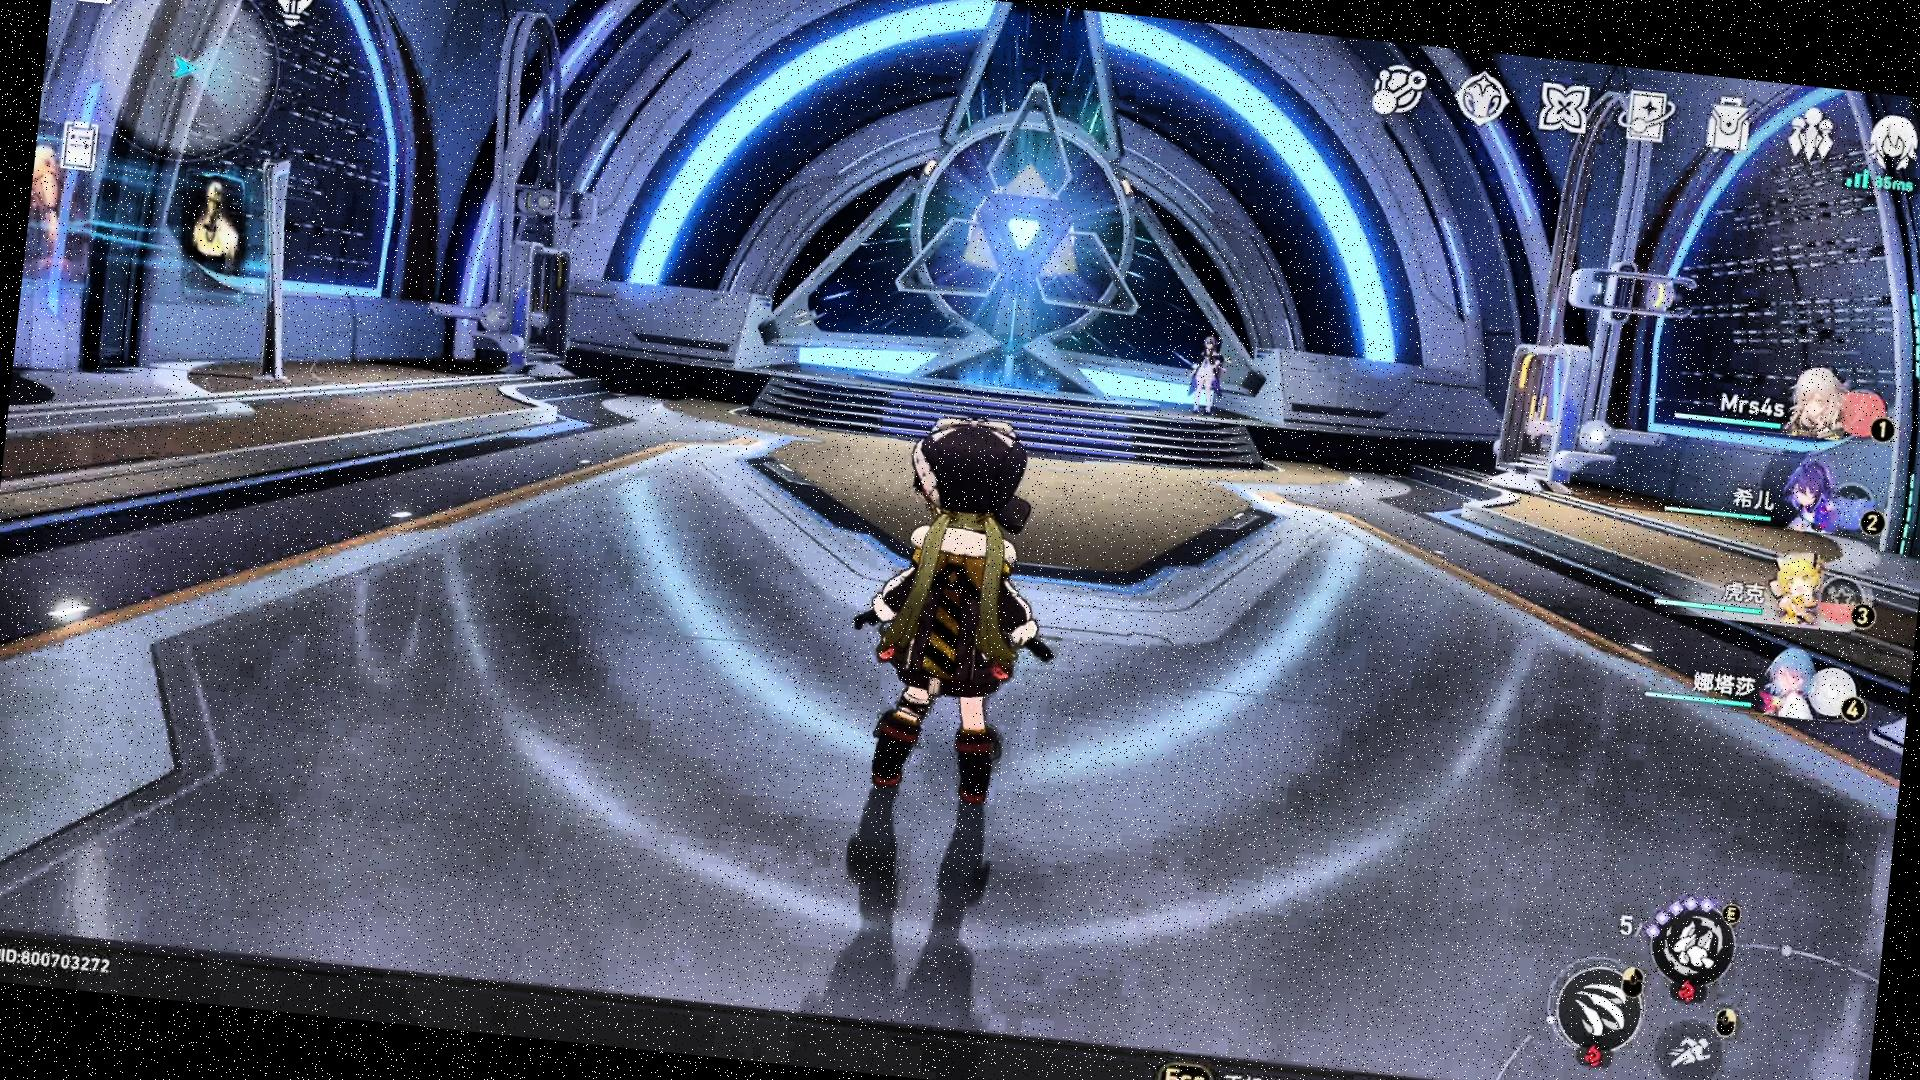Self: (837, 410, 1084, 818)
TeamMate: (1183, 328, 1238, 417)
